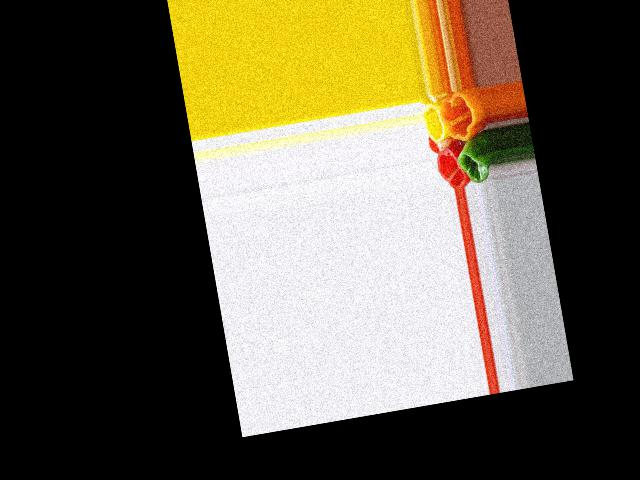bell_pepper: (434, 146, 466, 189)
